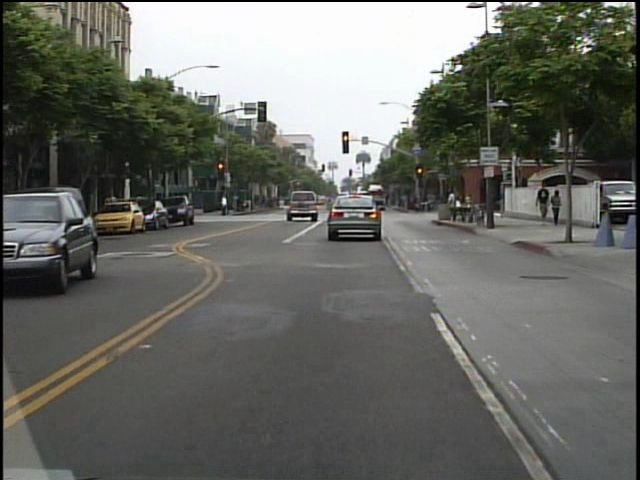person: (533, 182, 551, 226), (443, 187, 463, 225), (548, 187, 565, 228), (218, 190, 232, 218)
